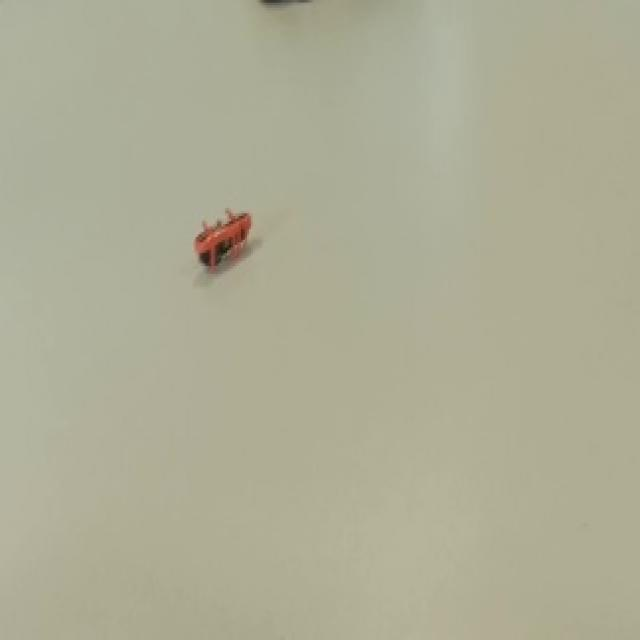7_NanoBug_Naranja: (189, 196, 263, 270)
